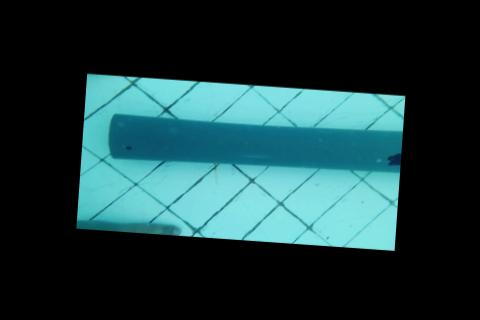kebocoran: (386, 153, 401, 166)
